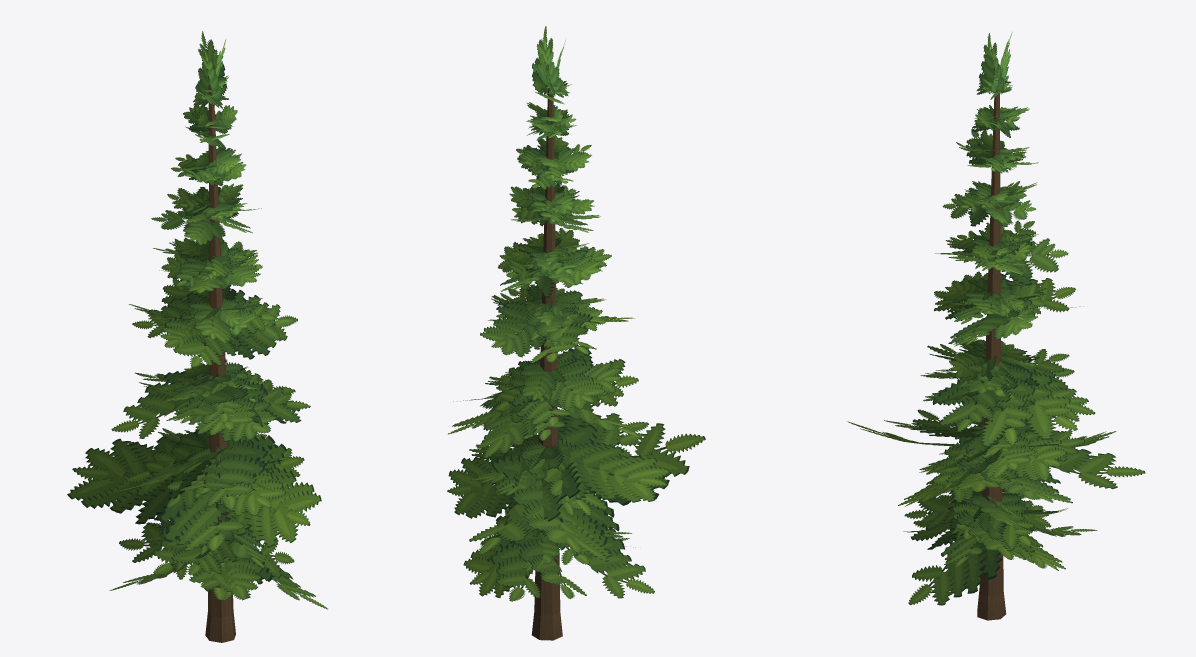
The model's file is fir4_d.glb.
3 views of the same model, side by side, from view 1: azimuth 30°, elevation 25°; view 2: azimuth 150°, elevation 25°; view 3: azimuth 270°, elevation 25° (orthographic). The views are drawn at different scales.
Parts seen in each view (by area): view 1: fir4_d; view 2: fir4_d; view 3: fir4_d.
Boxes of the visible parts, x1,y1,x2,y2 form: fir4_d: [67, 31, 327, 642]; fir4_d: [447, 26, 705, 640]; fir4_d: [847, 32, 1145, 620].
Bounding box in the file's own units: 3.66 × 7.68 × 4.63.
Materials: 2 (2 with a texture image).
